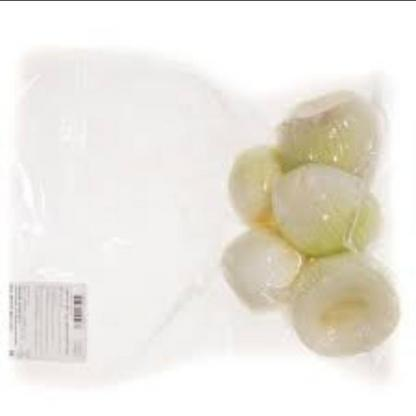onion: (194, 95, 404, 357)
